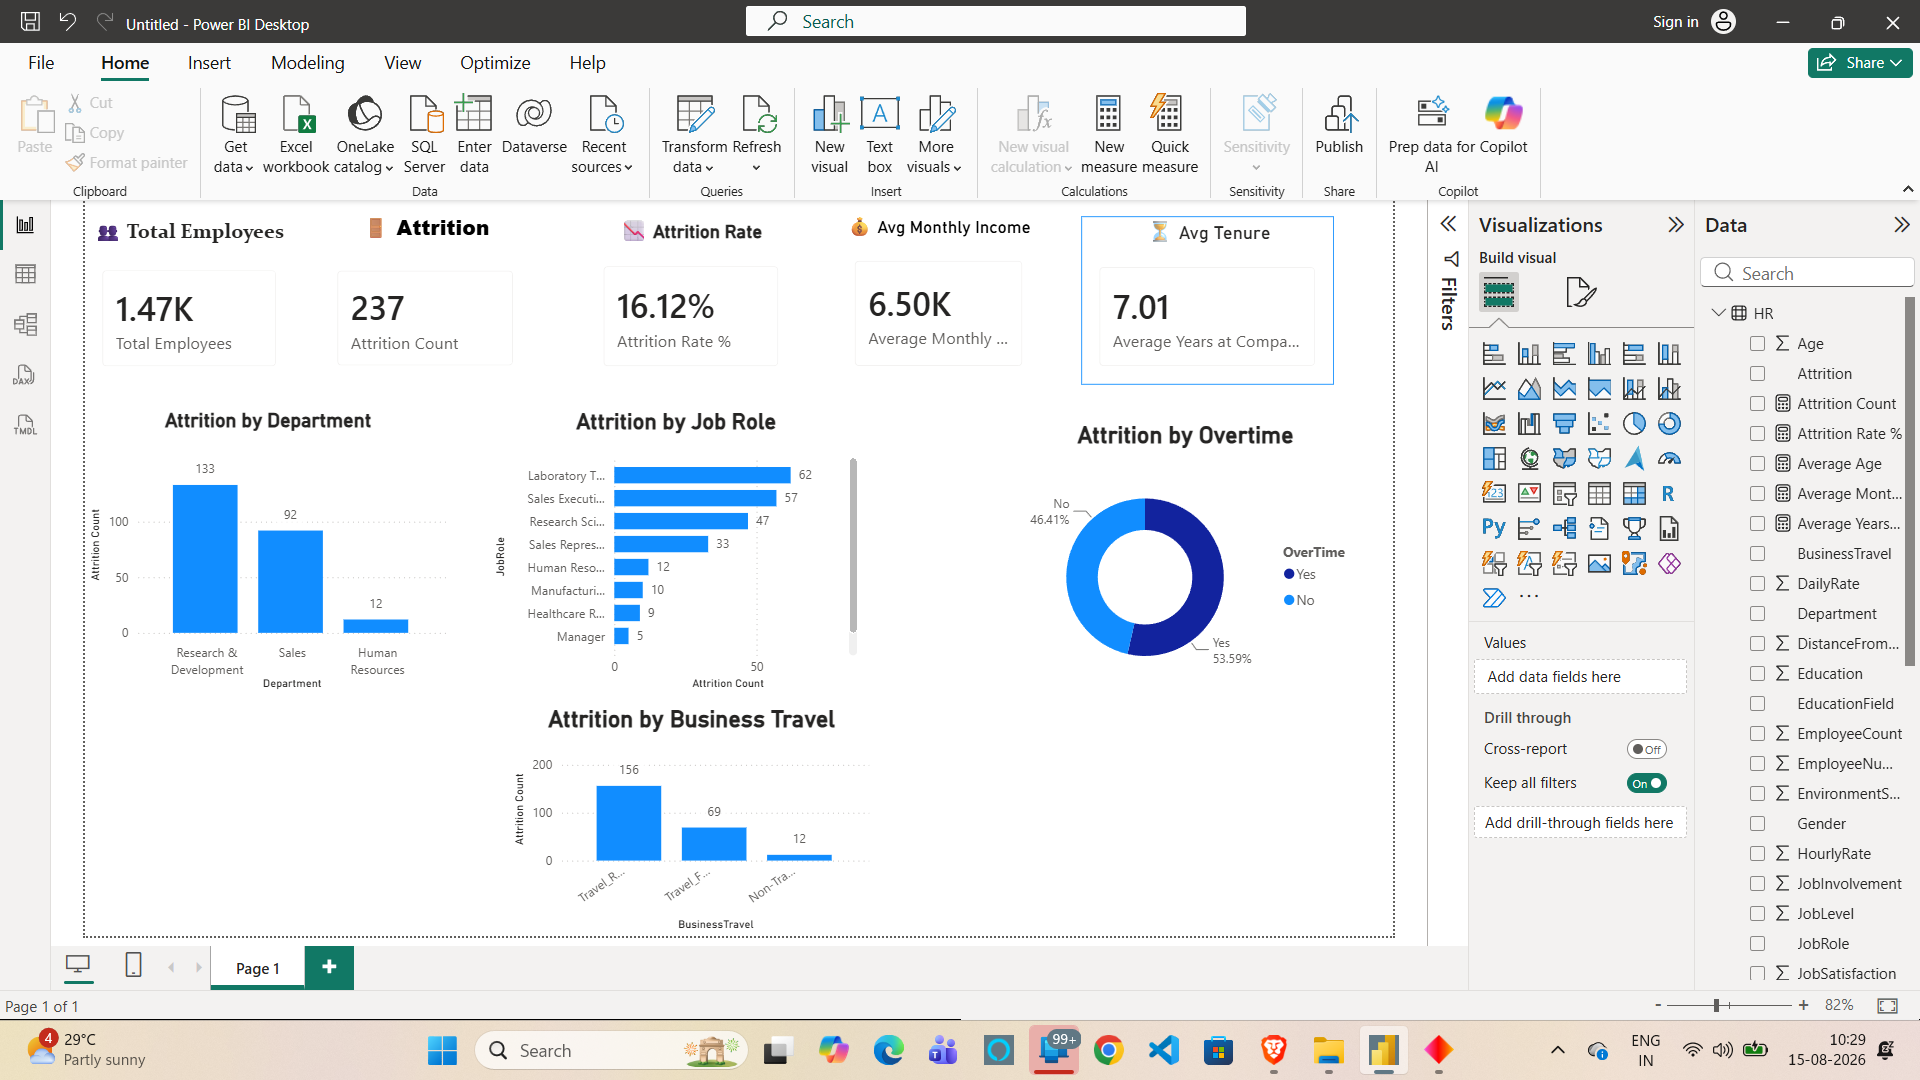

Layout of this report page (visuals, bound fields, positions):
{"tool":"powerbi","page":{"name":" HR ANALYTICS DASHBOARD ","canvas":[1280,720],"ordinal":0},"visuals":[{"type":"cardVisual","title":"👥 Total Employees","fields":{"Data":["HR.Total Employees"]},"box":[222,60.3,194.2,137.5],"z":0},{"type":"cardVisual","title":"🚪 Attrition","fields":{"Data":["HR.Attrition Count"]},"box":[416.2,60.3,206.3,137.5],"z":1000},{"type":"cardVisual","title":"📉 Attrition Rate","fields":{"Data":["HR.Attrition Rate %"]},"box":[615.3,60.3,205.4,137],"z":2000},{"type":"cardVisual","title":"💰 Avg Monthly Income","fields":{"Data":["HR.Average Monthly Income"]},"box":[820.4,60.3,240.9,137],"z":3000},{"type":"cardVisual","title":"⏳ Avg Tenure","fields":{"Data":["HR.Average Years at Company"]},"box":[1050.8,60.3,229.2,137.5],"z":4000},{"type":"lineClusteredColumnComboChart","title":"Attrition by Department","fields":{"Category":["HR.Department"],"Y":["HR.Attrition Count"]},"box":[259.4,207.5,475.3,273.9],"z":5000},{"type":"clusteredBarChart","title":"Attrition by Job Role","fields":{"Category":["HR.JobRole"],"Y":["HR.Attrition Count"]},"box":[798.7,208.7,459.7,273.9],"z":6000},{"type":"donutChart","title":"Attrition by Overtime","fields":{"Category":["HR.OverTime"],"Y":["HR.Attrition Count"]},"box":[799.9,494.6,459.7,218.4],"z":7000},{"type":"lineClusteredColumnComboChart","title":"Attrition by Business Travel","fields":{"Category":["HR.BusinessTravel"],"Y":["HR.Attrition Count"]},"box":[259.4,494.6,475.3,216],"z":8000},{"type":"textbox","title":" HR ANALYTICS DASHBOARD ","box":[0,0,1280,38.6],"z":9000},{"type":"listSlicer","fields":{"Values":["HR.Department"]},"box":[0,60.3,222,137.5],"z":10000},{"type":"listSlicer","fields":{"Values":["HR.JobRole"]},"box":[0,197.9,222,137.5],"z":11000},{"type":"listSlicer","fields":{"Values":["HR.Gender"]},"box":[0,468.1,222,124.3],"z":12000},{"type":"listSlicer","fields":{"Values":["HR.OverTime"]},"box":[0,591.2,222,129.1],"z":13000},{"type":"listSlicer","fields":{"Values":["HR.BusinessTravel"]},"box":[0,335.4,222,132.7],"z":14000},{"type":"pageNavigator","box":[0,39.8,1280,20.5],"z":15000}]}

Visuals, with their boxes on the page's 1280x720 design canvas (x1, y1, x2, y2). These are canvas units, not pixel positions in the 1920x1080 screenshot, which may show the page scaled, cropped or inside an application window:
"👥 Total Employees" cardVisual: box(222, 60, 416, 198)
"🚪 Attrition" cardVisual: box(416, 60, 622, 198)
"📉 Attrition Rate" cardVisual: box(615, 60, 821, 197)
"💰 Avg Monthly Income" cardVisual: box(820, 60, 1061, 197)
"⏳ Avg Tenure" cardVisual: box(1051, 60, 1280, 198)
"Attrition by Department" lineClusteredColumnComboChart: box(259, 208, 735, 481)
"Attrition by Job Role" clusteredBarChart: box(799, 209, 1258, 483)
"Attrition by Overtime" donutChart: box(800, 495, 1260, 713)
"Attrition by Business Travel" lineClusteredColumnComboChart: box(259, 495, 735, 711)
" HR ANALYTICS DASHBOARD " textbox: box(0, 0, 1280, 39)
listSlicer - HR.Department: box(0, 60, 222, 198)
listSlicer - HR.JobRole: box(0, 198, 222, 335)
listSlicer - HR.Gender: box(0, 468, 222, 592)
listSlicer - HR.OverTime: box(0, 591, 222, 720)
listSlicer - HR.BusinessTravel: box(0, 335, 222, 468)
pageNavigator: box(0, 40, 1280, 60)
